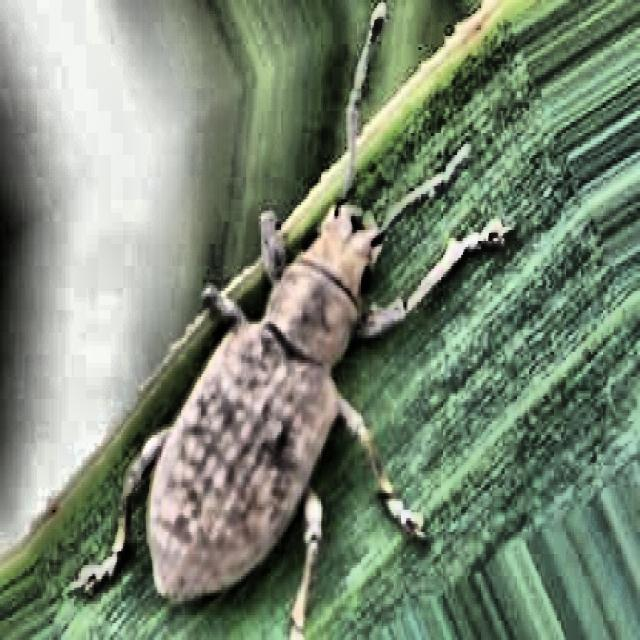Stink bug: (101, 39, 461, 633)
